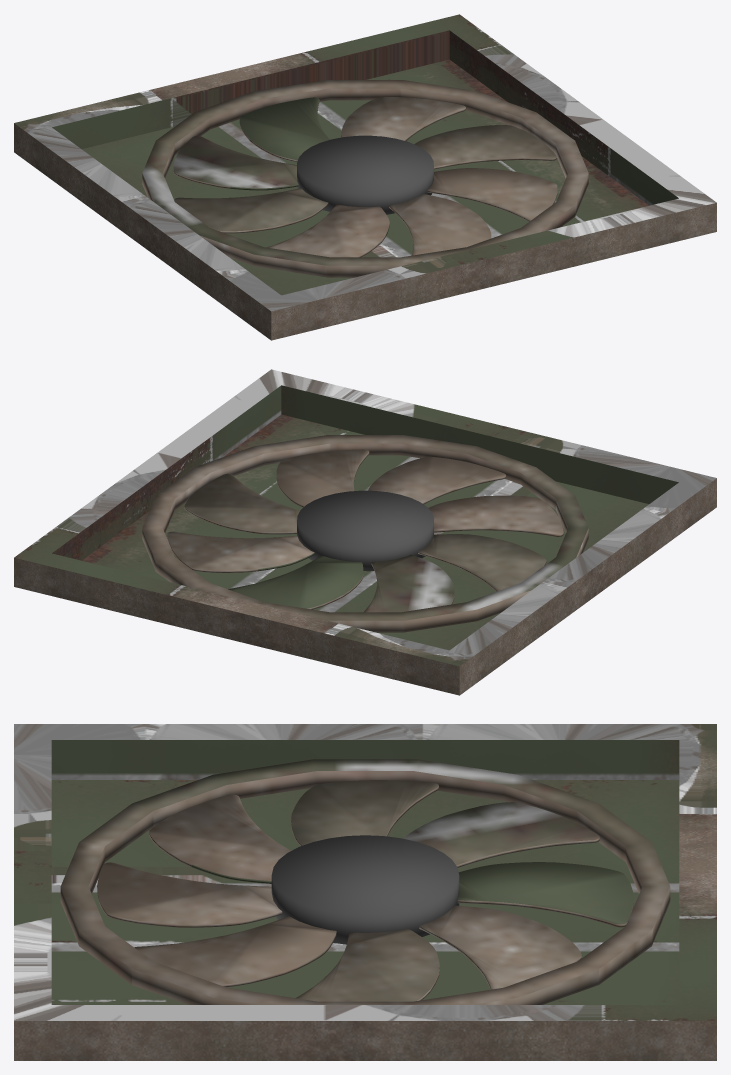
The model's file is roof_fanbox.fbx.
The picture shows the model from 3 angles, top to bottom: view 1: azimuth 30°, elevation 25°; view 2: azimuth 150°, elevation 25°; view 3: azimuth 270°, elevation 25°; orthographic projection. The views are drawn at different scales.
Visible parts, largest first — view 1: roof_fanbox; view 2: roof_fanbox; view 3: roof_fanbox.
Part boxes in pixels (x1,y1,x2,y2): roof_fanbox: (14,14,716,340); roof_fanbox: (14,369,716,695); roof_fanbox: (14,724,716,1060).
Size of the model in its own units: 79.86 by 5 by 79.86.
